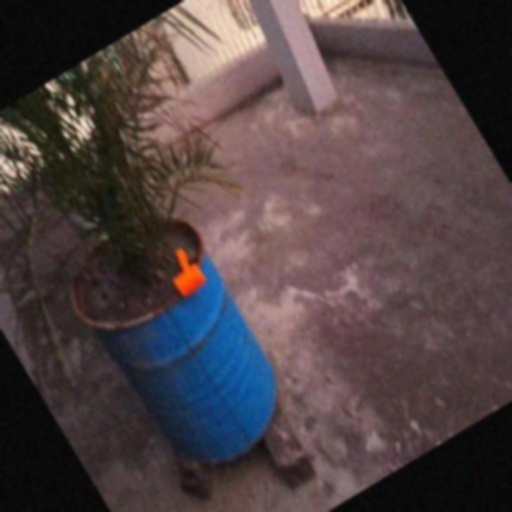mallet: (158, 242, 210, 301)
